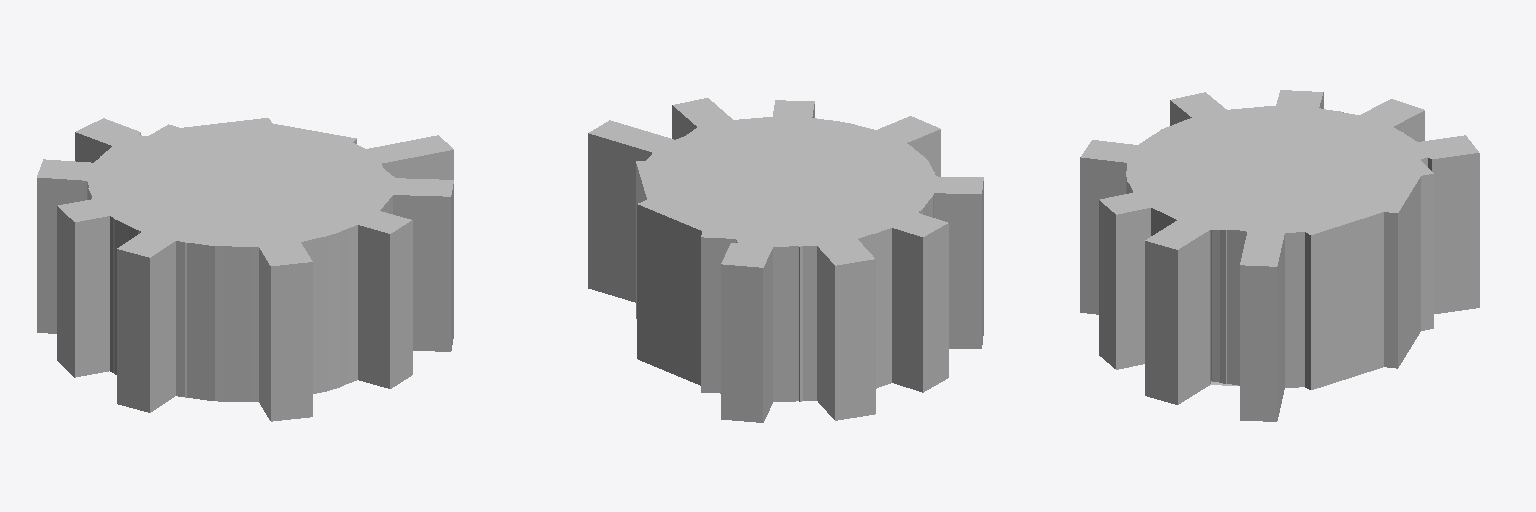
The model's file is ressort_element_000075.obj.
The picture shows the model from 3 angles: view 1: azimuth 30°, elevation 25°; view 2: azimuth 150°, elevation 25°; view 3: azimuth 270°, elevation 25°; orthographic projection.
Visible parts, largest first — view 1: resort_Cube.015; view 2: resort_Cube.015; view 3: resort_Cube.015.
Boxes of the visible parts, x1,y1,x2,y2 form: resort_Cube.015: [37, 118, 453, 421]; resort_Cube.015: [588, 98, 983, 422]; resort_Cube.015: [1080, 90, 1479, 421].
Size of the model in its own units: 9390 by 3843 by 8957.